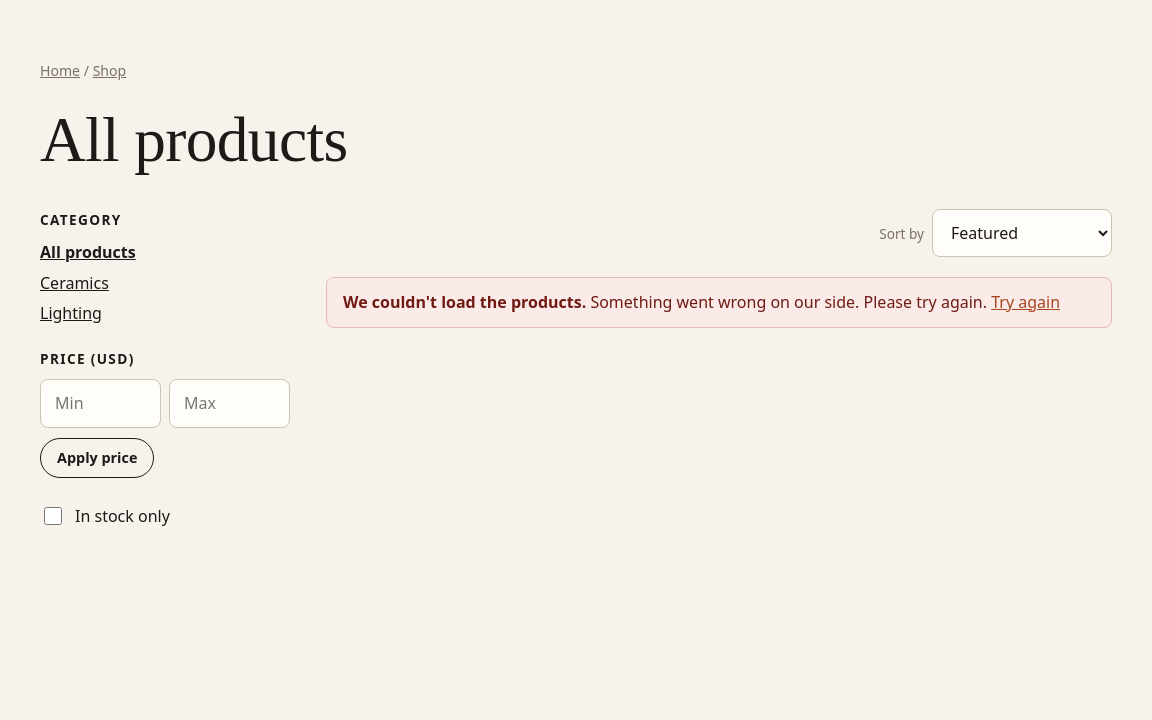
Scenario: ShopPage › reports API failures honestly and retries
Expected: the message shows "We couldn't load the products", [343,291,586,313]
Step 1. Click the button "Try again" → x=1026, y=302, box [991,290,1060,315]
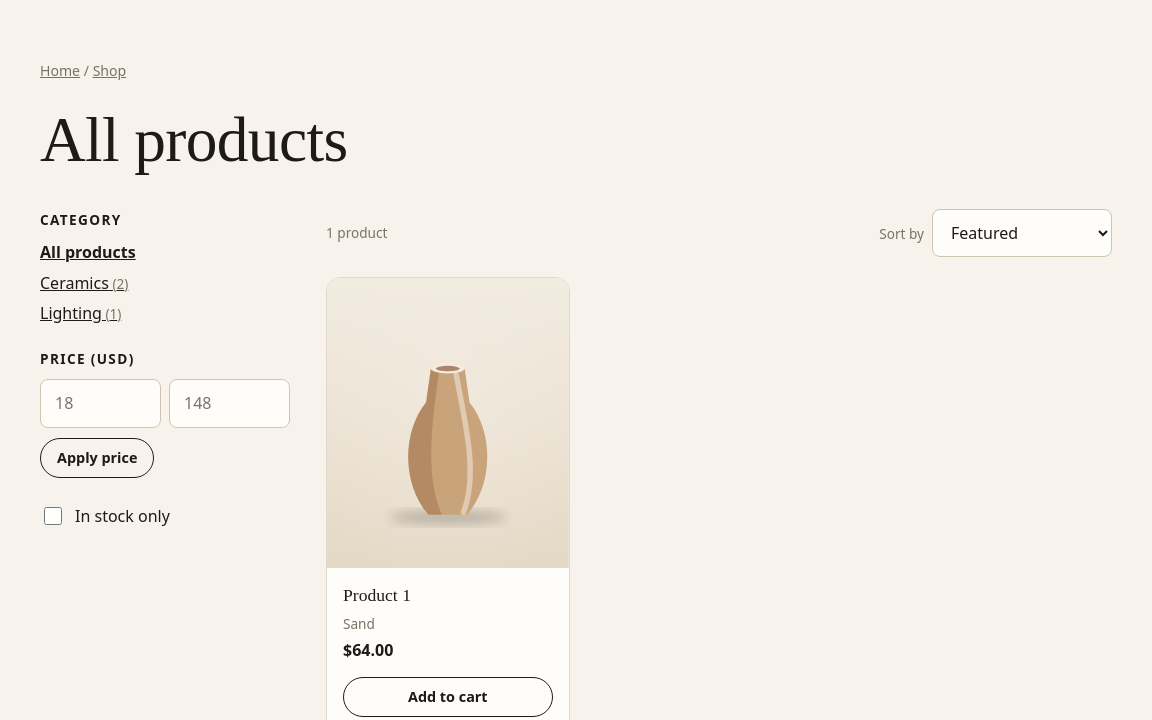
Expected: the link "Product 1" is shown, [343,585,411,605]
